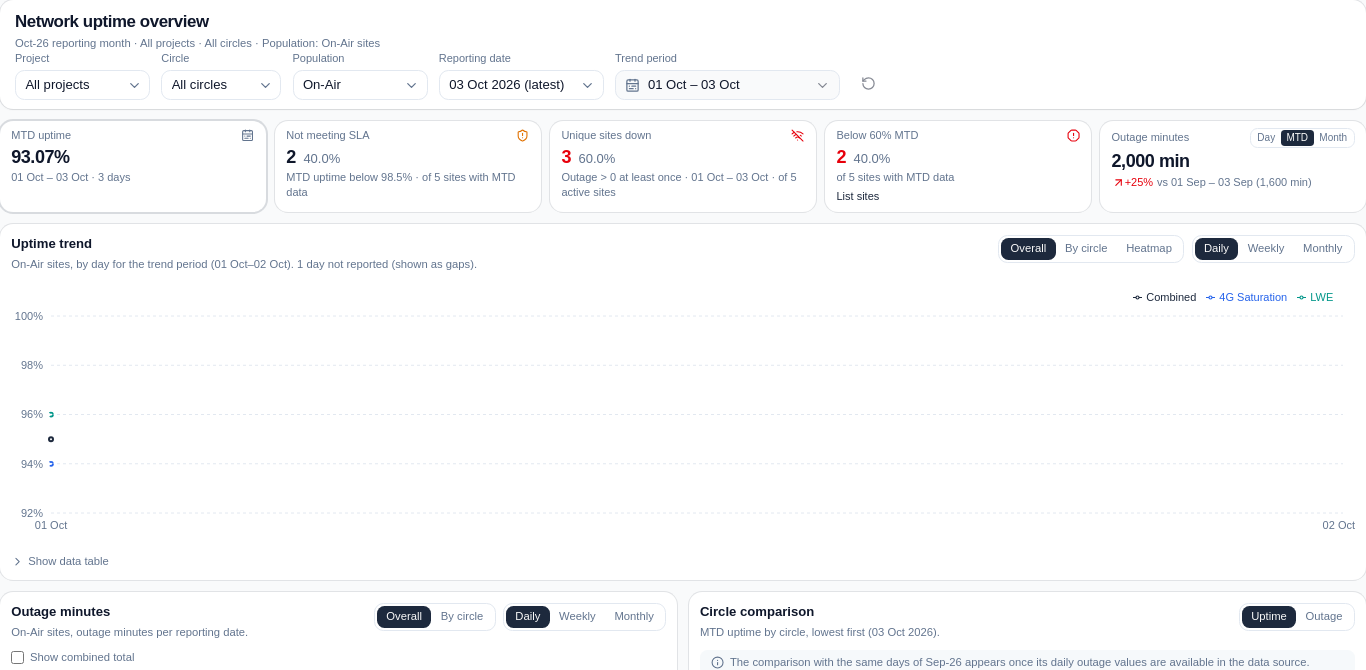
Test: DashboardPage › renders KPIs from the summary endpoint for the latest date by default
expect the text "93.07%" is shown: met, box [11, 146, 70, 168]
expect the text "Outage > 0 at least once · 01 Oct – 03 Oct · of 5 active sites" is shown: met, box [561, 170, 805, 200]
What coordinates should you click on to do the following:
click the button "Day"
I would click on:
 (1266, 138)
Its box is [1252, 130, 1281, 146].
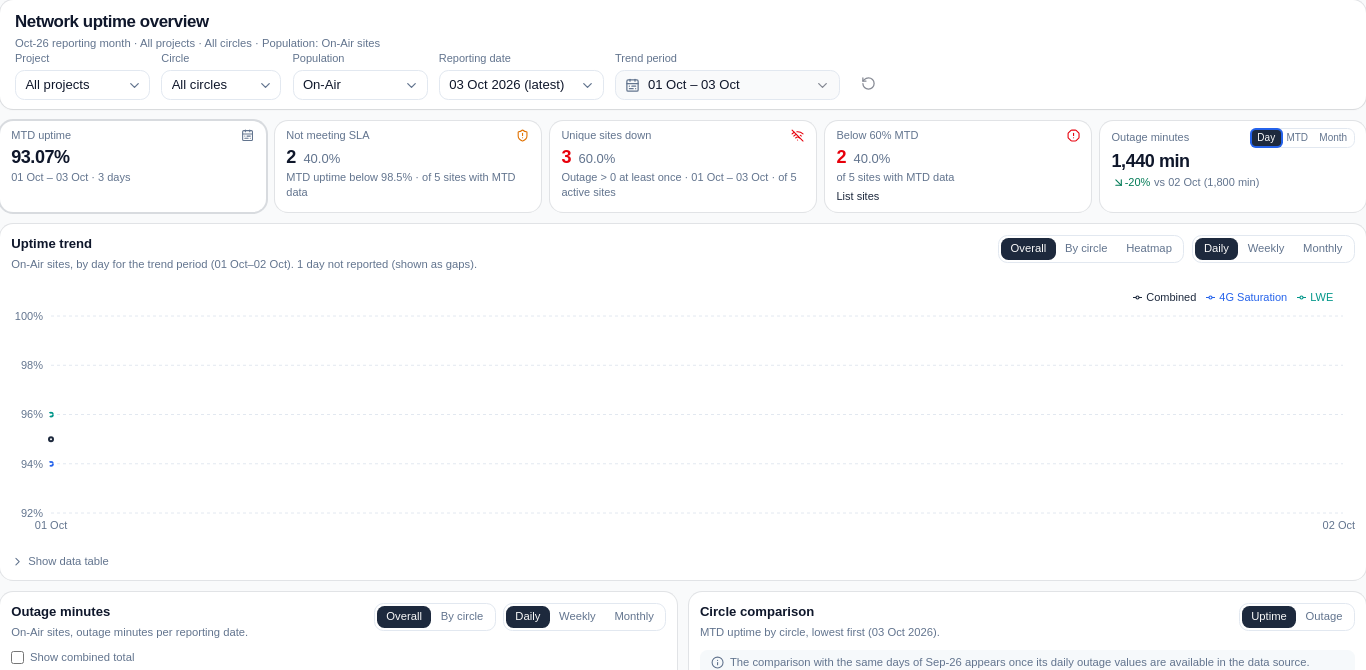
expect the text "-20%" has class "text-emerald-700": met, box [1112, 175, 1150, 190]
What coordinates should you click on to do the following:
click the button "Month"
I would click on:
 (1333, 138)
Its box is [1314, 130, 1353, 146].
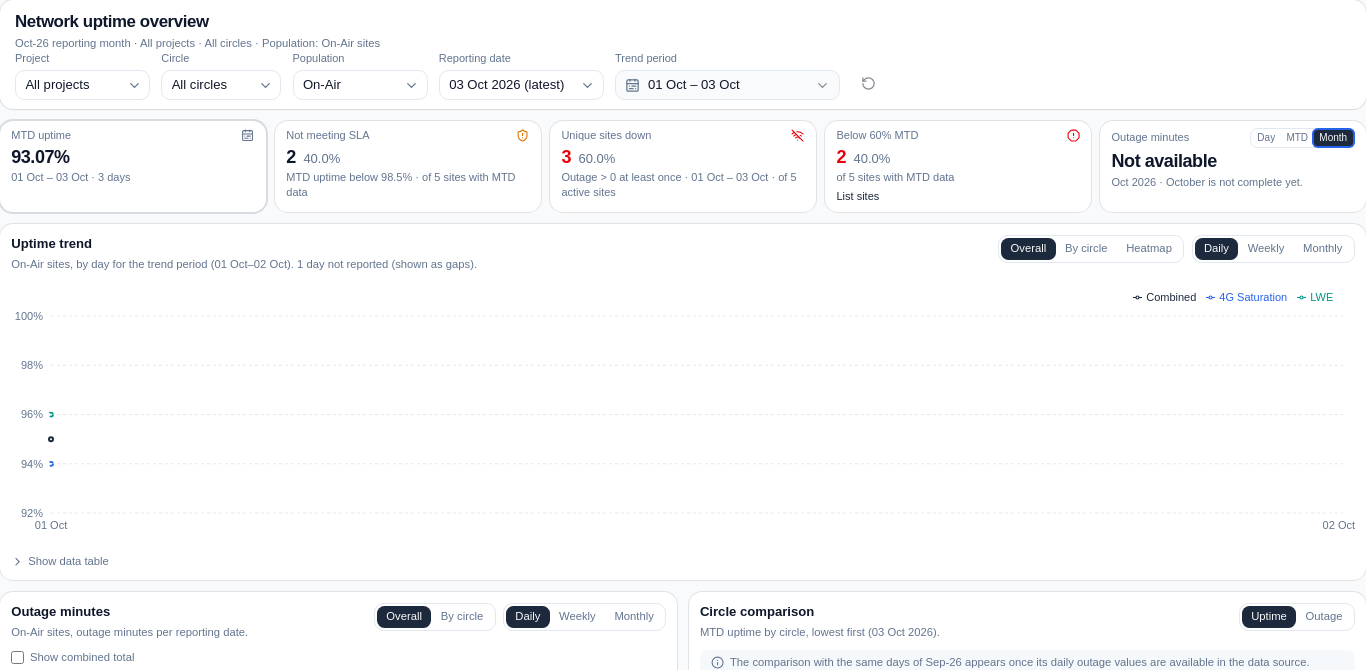
expect the element "Outage minutes" shows "October is not complete yet.": met, box [1166, 176, 1303, 188]
